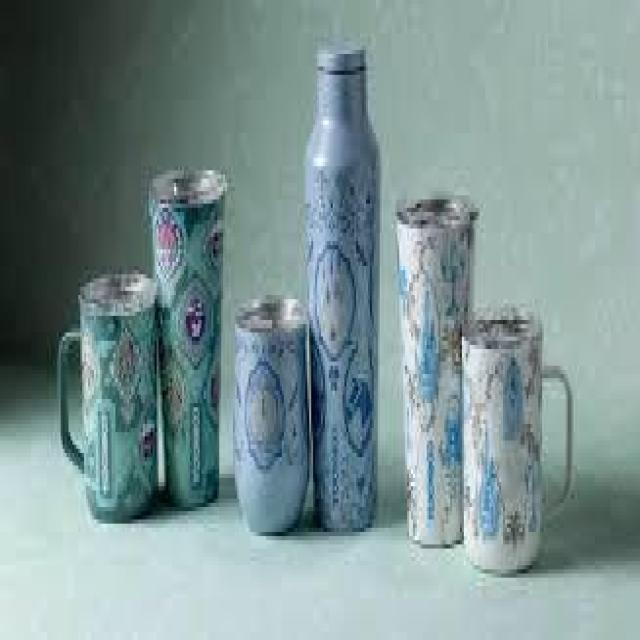bottle: (305, 42, 380, 532), (392, 194, 484, 546), (461, 312, 578, 574), (149, 168, 229, 514), (58, 274, 158, 524), (231, 297, 307, 534)
